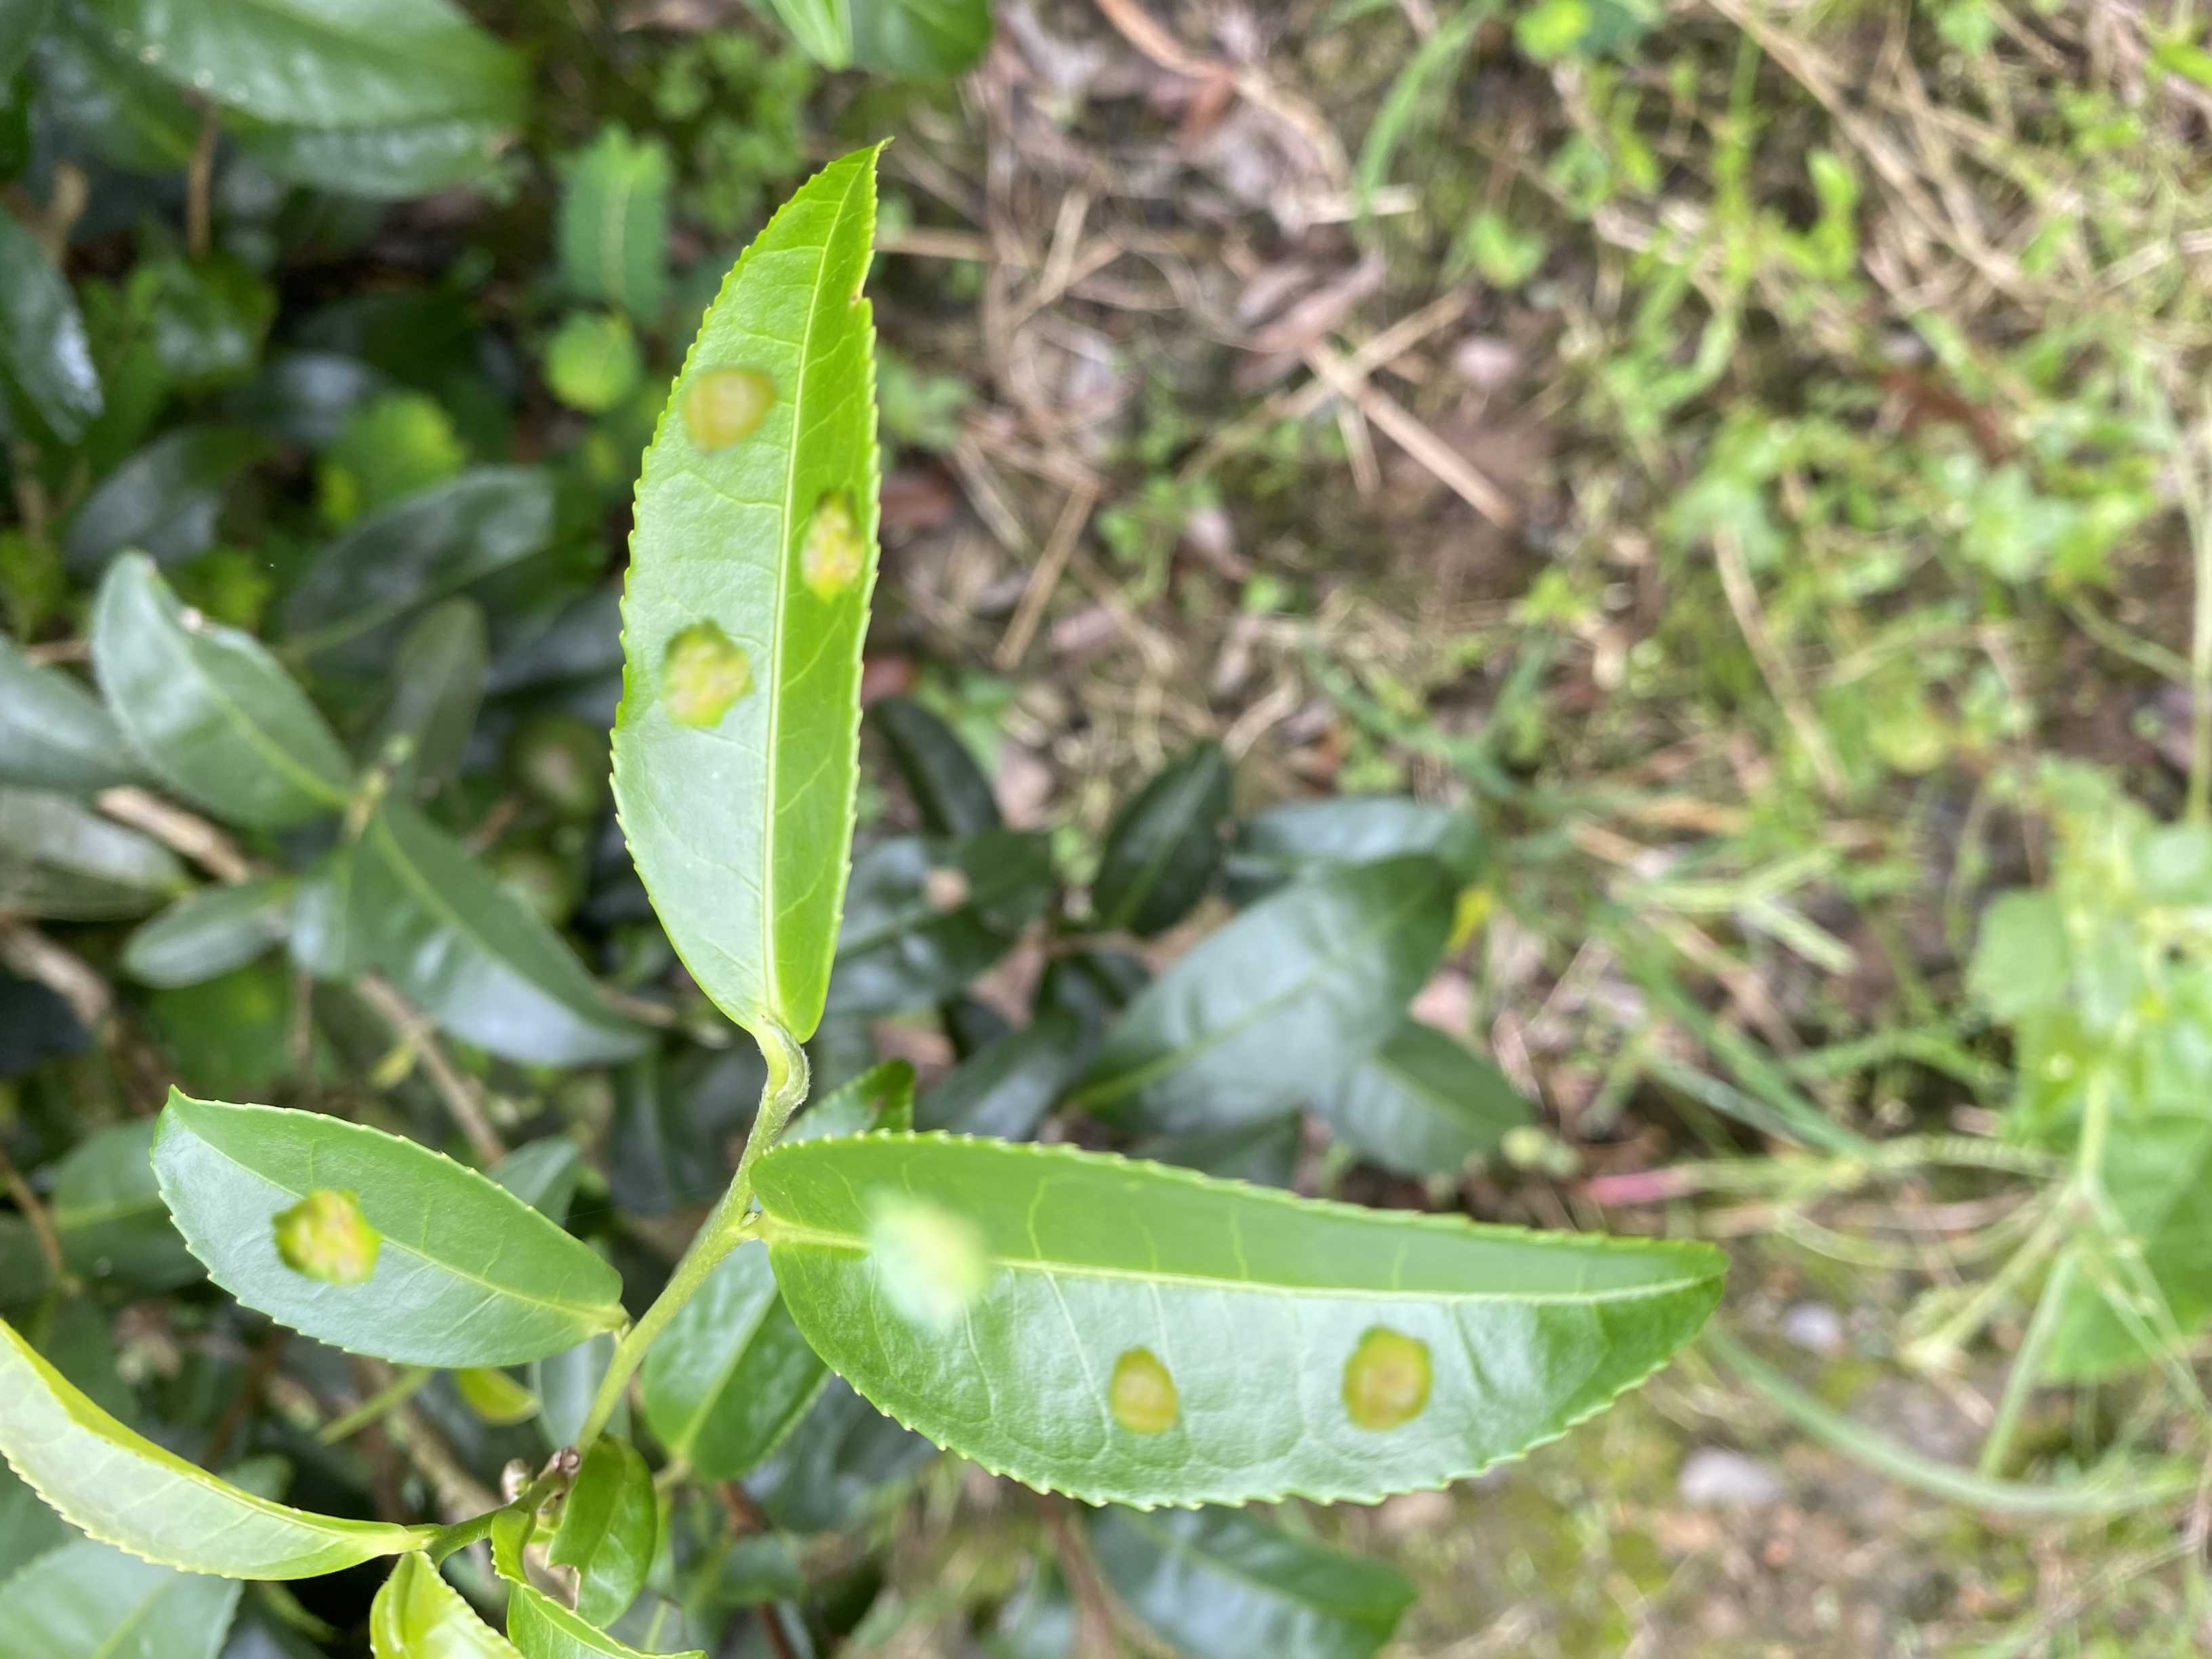chabing_high: (749, 1126, 1735, 1518), (606, 134, 890, 1042)
chabing_low: (145, 1086, 627, 1371)
chihuo_low: (547, 1432, 658, 1631)
healthy: (5, 1316, 437, 1579)
